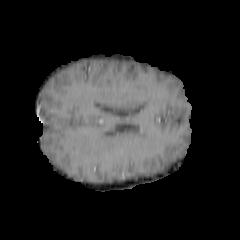glioma: (79, 134, 113, 156)
